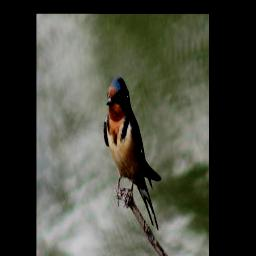Swallow: (102, 75, 159, 232)
